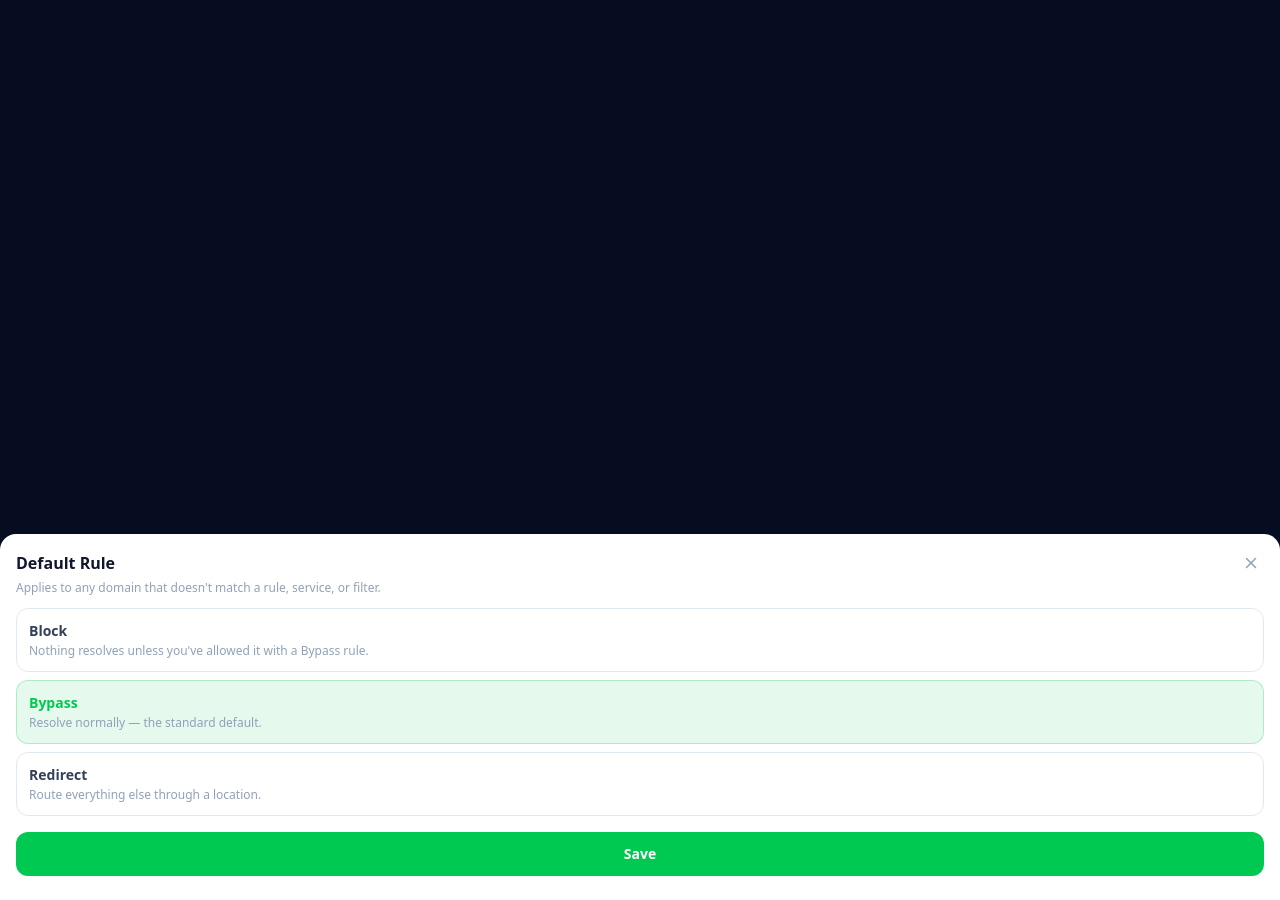
Test: DefaultRuleSheet › selecting Redirect reveals the location select
The width and height of the screenshot is (1280, 900).
Check: the text "Redirect location" is not shown
Click the text "Redirect": point(58, 774) [29,765,87,784]
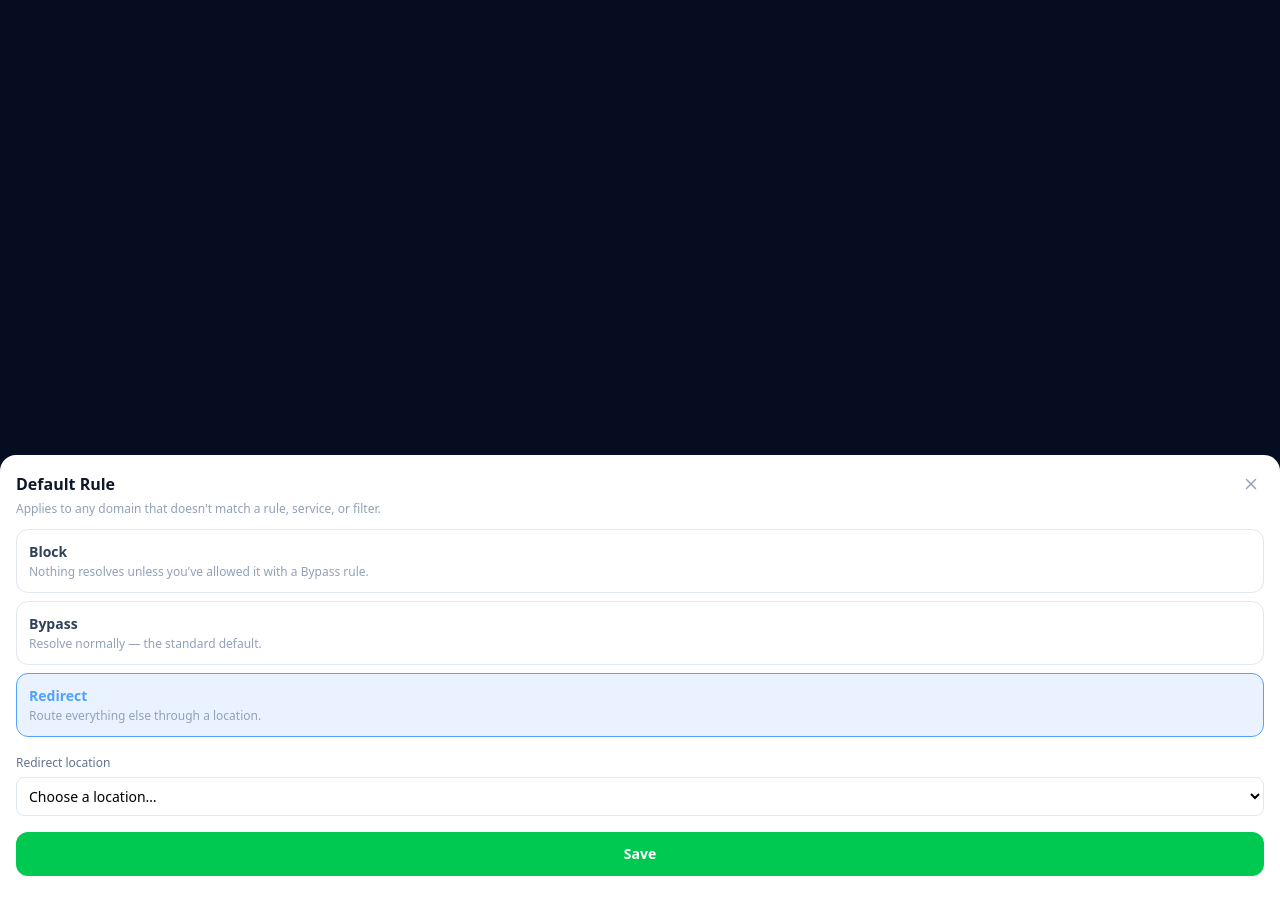
Check: the text "Redirect location" is shown, box [16,754,110,771]
